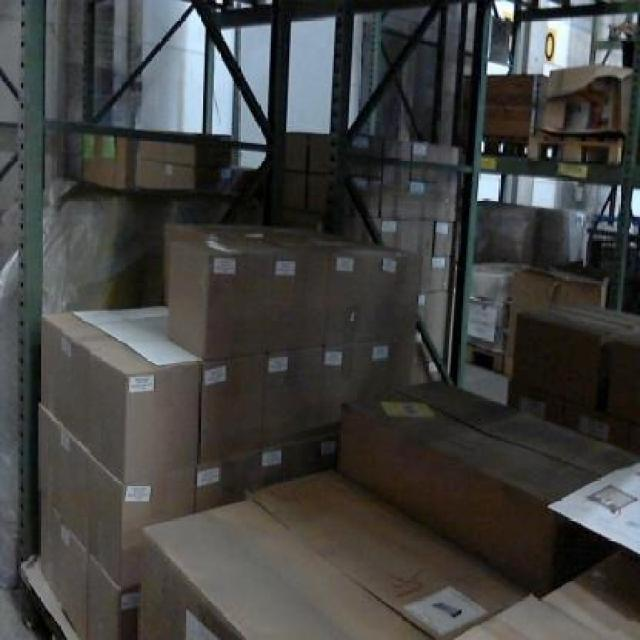pallets: (337, 382, 634, 589)
